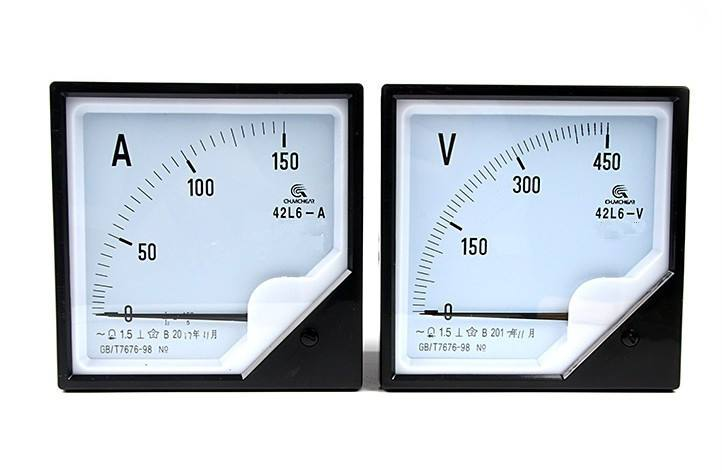pointer: (64, 95, 348, 373), (395, 98, 673, 374)
